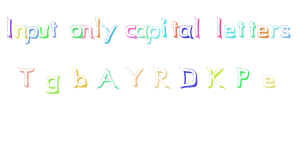A: (95, 64, 121, 94)
D: (174, 61, 204, 96)
I: (2, 12, 19, 44)
K: (202, 61, 230, 94)
P: (229, 59, 256, 92)
R: (148, 64, 174, 92)
T: (13, 60, 40, 90)
Y: (121, 59, 148, 92)
a: (178, 21, 195, 43), (133, 20, 150, 40)
b: (68, 61, 91, 91)
c: (122, 19, 138, 41)
e: (257, 70, 283, 93), (256, 20, 270, 43), (223, 22, 237, 41)
g: (41, 70, 64, 97)
i: (159, 16, 171, 41)
l: (210, 11, 226, 41), (192, 12, 202, 39), (94, 14, 102, 39)
n: (80, 19, 95, 42), (12, 21, 28, 41)
o: (67, 20, 85, 40)
p: (22, 20, 41, 44), (145, 21, 161, 45)
r: (267, 19, 281, 42)
s: (278, 18, 294, 41)
t: (48, 16, 63, 41), (246, 14, 259, 40), (169, 16, 182, 41), (236, 15, 247, 40)
u: (34, 20, 50, 39)
y: (101, 23, 119, 46)
